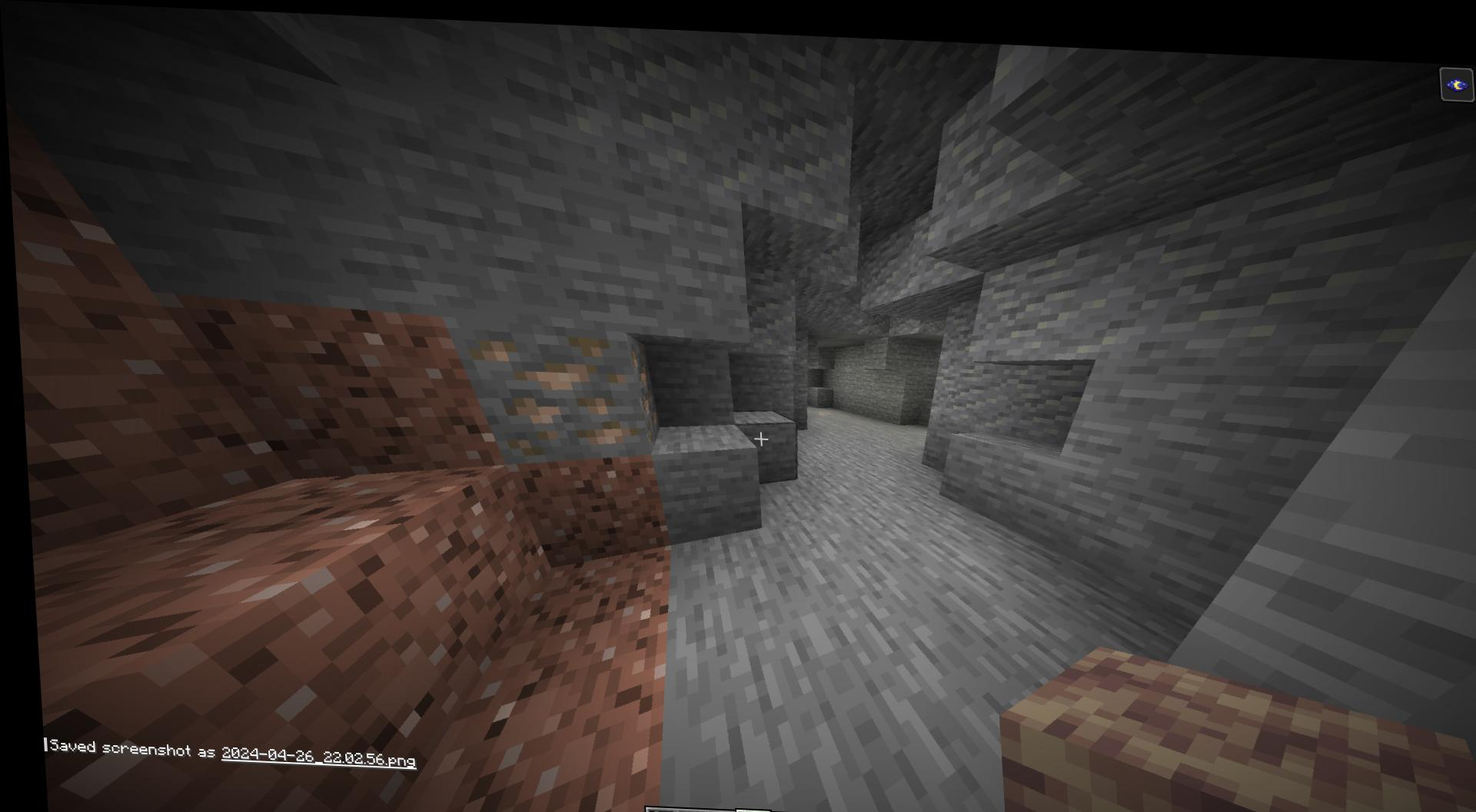iron ore: (468, 319, 655, 452)
